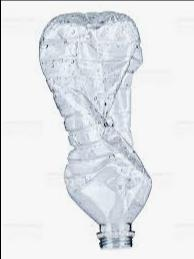Plastic: (37, 7, 152, 252)
